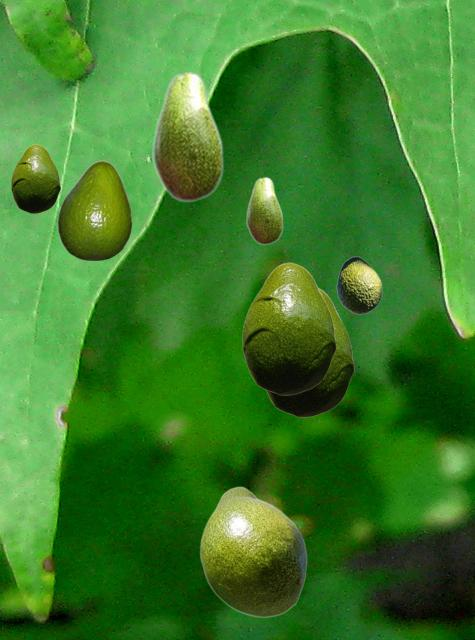avocado: (199, 486, 306, 617), (242, 262, 335, 394), (265, 288, 353, 416), (152, 70, 223, 202), (57, 160, 131, 259), (11, 144, 59, 212), (336, 256, 381, 313), (246, 176, 282, 244)
